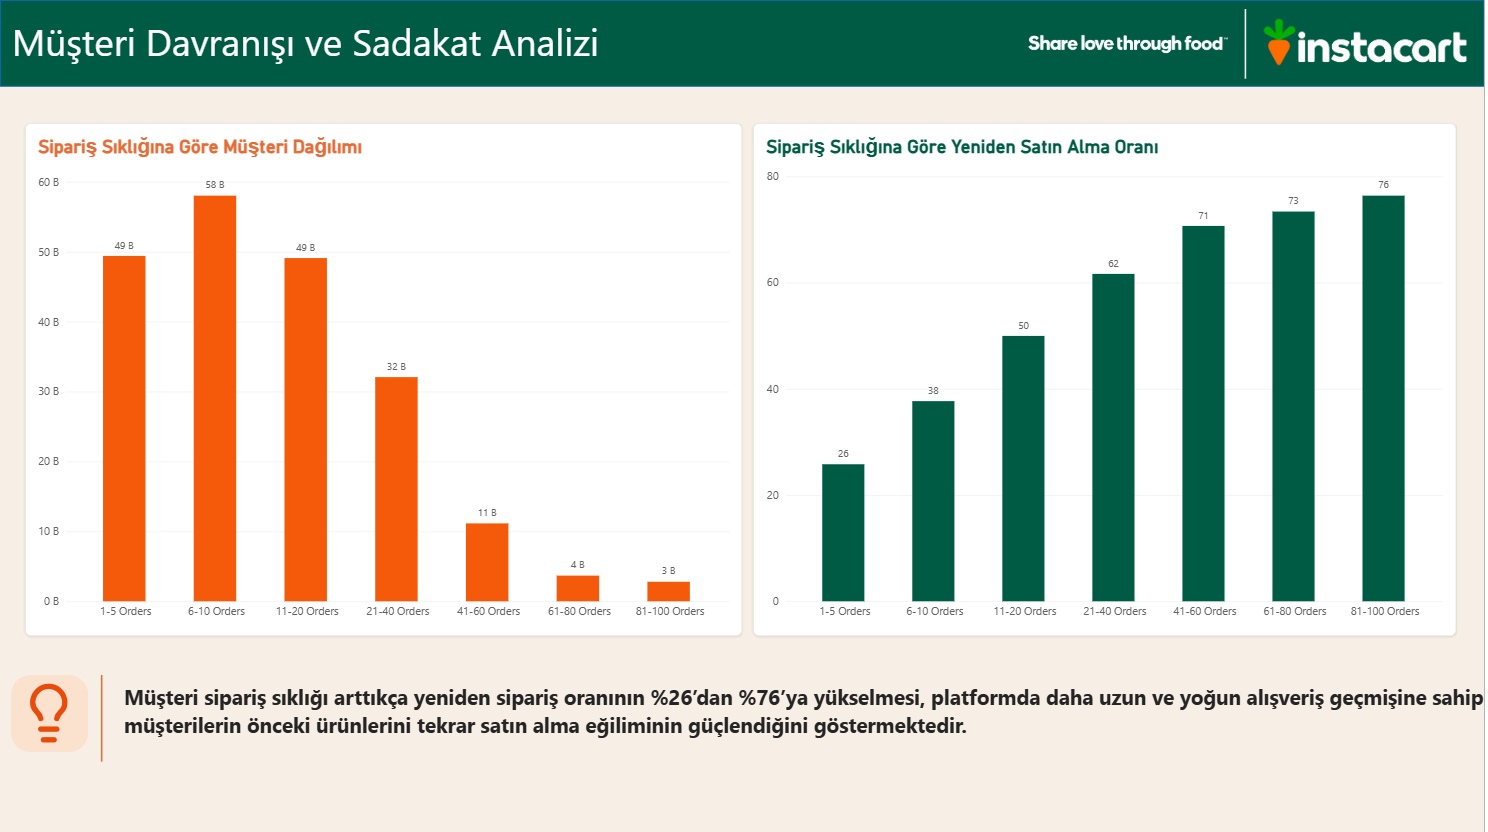

The dashboard page shown, as its layout file describes it:
{"tool":"powerbi","page":{"name":"Müşteri Davranışı ve Sadakat Analizi","canvas":[1920,1080],"ordinal":4},"visuals":[{"type":"image","box":[1323.3,0,271.4,112.3],"z":0,"group":"g1"},{"type":"clusteredColumnChart","title":"Sipariş Sıklığına Göre Müşteri Dağılımı","fields":{"Category":["mart_customer_behavior.Order Frequency Group"],"Y":["Count(mart_customer_behavior.user_id)"]},"box":[32.1,159,927.9,663.8],"z":0},{"type":"shape","box":[14.5,873.9,100,100],"z":0,"group":"g2"},{"type":"shape","box":[0,0,1920.3,112],"z":1000},{"type":"shape","box":[1583,11.7,55.4,90.5],"z":1000,"group":"g1"},{"type":"image","box":[2.9,881.2,120.7,82.9],"z":1000,"group":"g2"},{"type":"clusteredColumnChart","title":"Sipariş Sıklığına Göre Yeniden Satın Alma Oranı","fields":{"Category":["mart_customer_behavior.Order Frequency Group"],"Y":["Avg(mart_customer_behavior.reorder_rate)"]},"box":[974.6,159,910.4,663.8],"z":2000},{"type":"shape","box":[94.5,873.9,74.2,112],"z":2000,"group":"g2"},{"type":"textbox","box":[160.5,884.1,1759.5,112.3],"z":3000},{"type":"image","box":[1614.6,0,305.4,111.9],"z":4000},{"type":"textbox","box":[16,20.4,860.8,91.9],"z":5000},{"type":"group","id":"g1","title":"Grup 8","box":[1323.3,0,315.1,112.3],"z":6000},{"type":"group","id":"g2","title":"Grup 1","box":[2.9,873.9,166.3,112.3],"z":7000}]}

Visuals, with their boxes in screenshot pixels (x1, y1, x2, y2), scaled from the page's 1920x1080 canvas onto the 1488x832 screenshot:
image: [left=1026, top=0, right=1236, bottom=87]
"Sipariş Sıklığına Göre Müşteri Dağılımı" clusteredColumnChart: [left=25, top=122, right=744, bottom=634]
shape: [left=11, top=673, right=89, bottom=750]
shape: [left=0, top=0, right=1487, bottom=86]
shape: [left=1227, top=9, right=1270, bottom=79]
image: [left=2, top=679, right=96, bottom=743]
"Sipariş Sıklığına Göre Yeniden Satın Alma Oranı" clusteredColumnChart: [left=755, top=122, right=1461, bottom=634]
shape: [left=73, top=673, right=131, bottom=760]
textbox: [left=124, top=681, right=1487, bottom=768]
image: [left=1251, top=0, right=1487, bottom=86]
textbox: [left=12, top=16, right=680, bottom=87]
"Grup 8" group: [left=1026, top=0, right=1270, bottom=87]
"Grup 1" group: [left=2, top=673, right=131, bottom=760]
